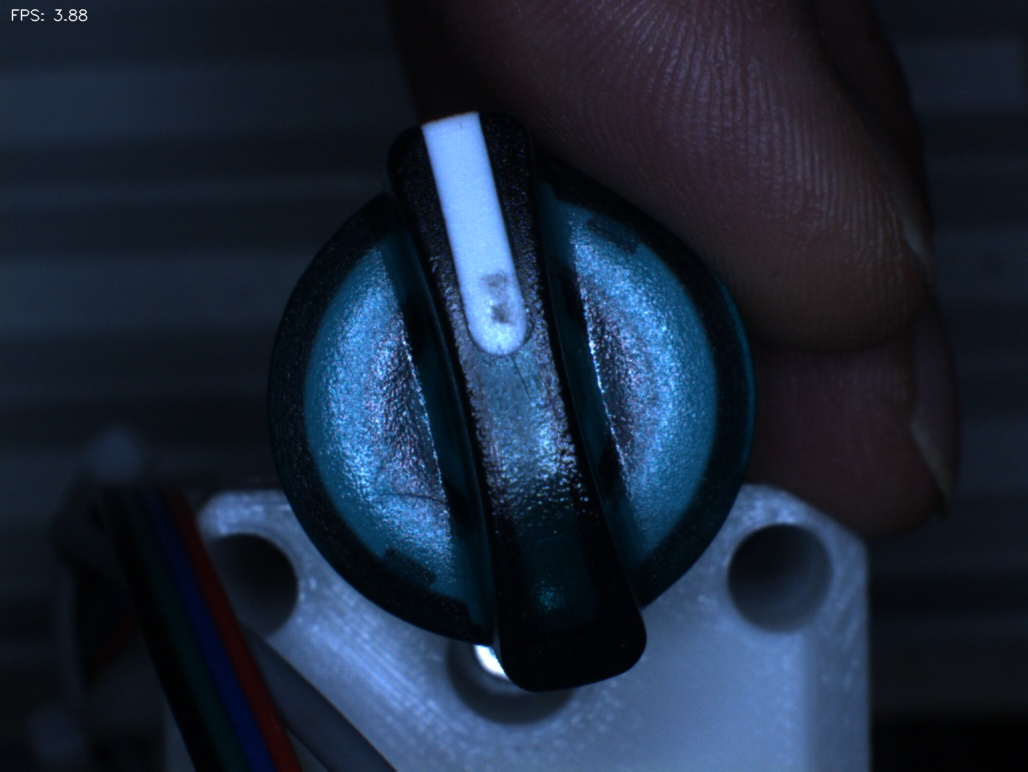PointNoir: (447, 252, 551, 360)
